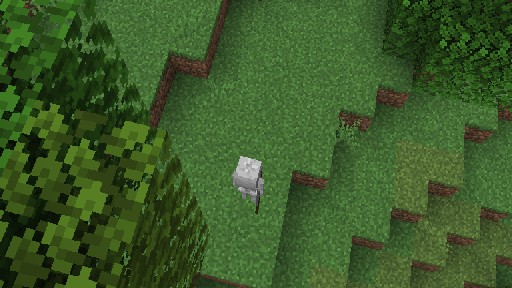skeleton: (231, 155, 264, 214)
